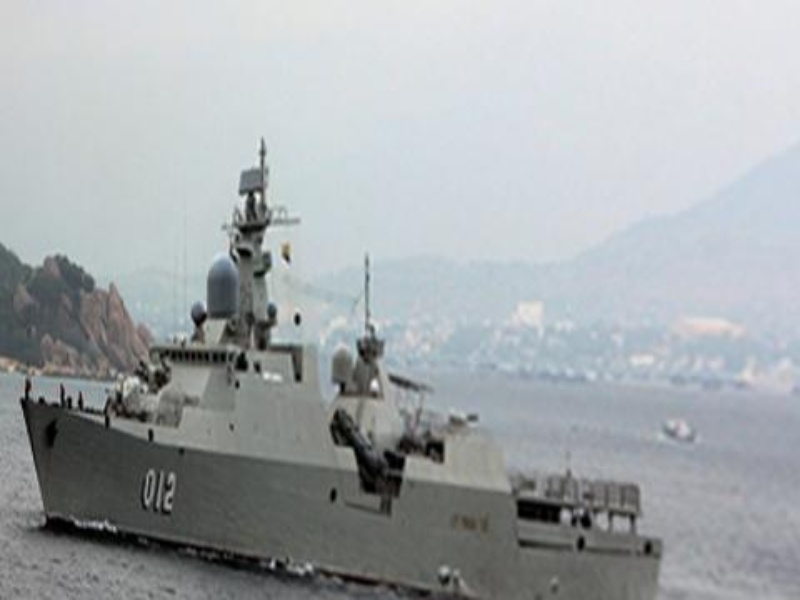cruise: (36, 285, 660, 597)
